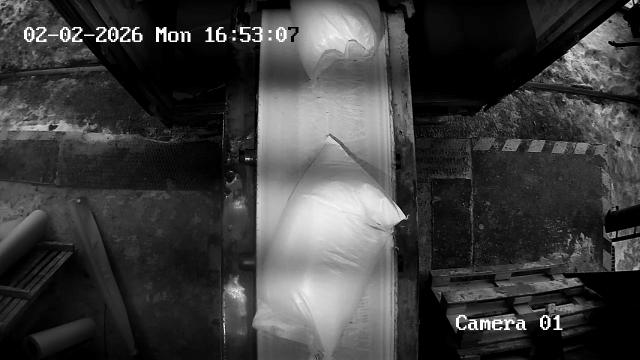bag: (254, 136, 404, 358), (290, 0, 382, 78)
